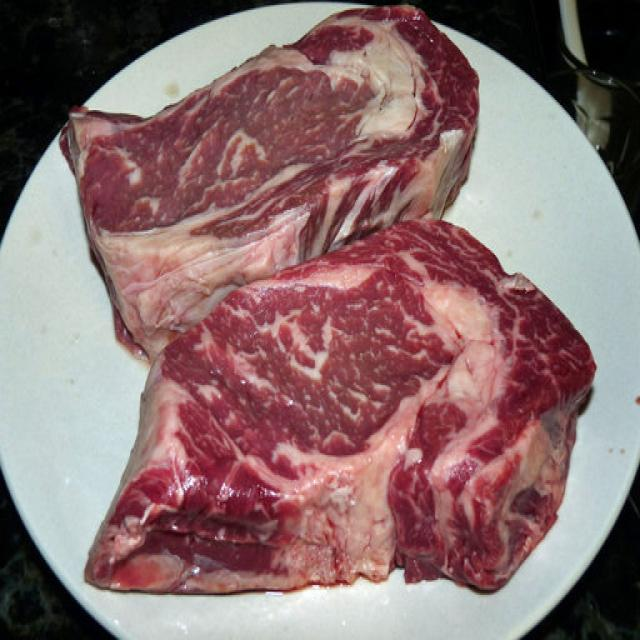Steak: (59, 63, 595, 599)
